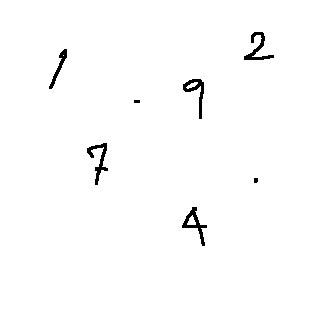.: (248, 171, 271, 197), (133, 95, 149, 106)
1: (42, 43, 78, 92)
2: (237, 23, 287, 80)
4: (175, 195, 215, 251)
7: (83, 138, 122, 189)
9: (178, 72, 221, 124)
